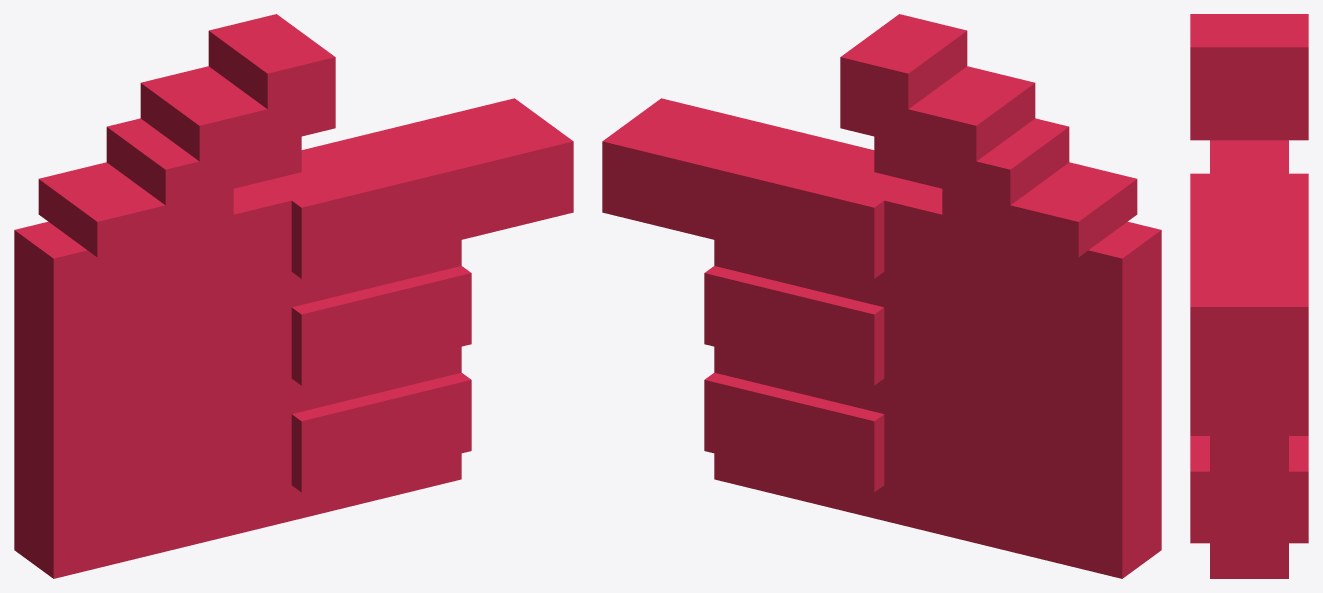
Rendered from fingergun_left.glb.
The picture shows the model from 3 angles, left to right: view 1: azimuth 30°, elevation 25°; view 2: azimuth 150°, elevation 25°; view 3: azimuth 270°, elevation 25°; orthographic projection.
Visible parts, largest first — view 1: generated(Clone); view 2: generated(Clone); view 3: generated(Clone).
Boxes of the visible parts, <box> form: generated(Clone): <box>14,14,573,578</box>; generated(Clone): <box>602,14,1161,578</box>; generated(Clone): <box>1190,14,1308,578</box>.
Bounding box in the file's own units: 15 × 13 × 3.
